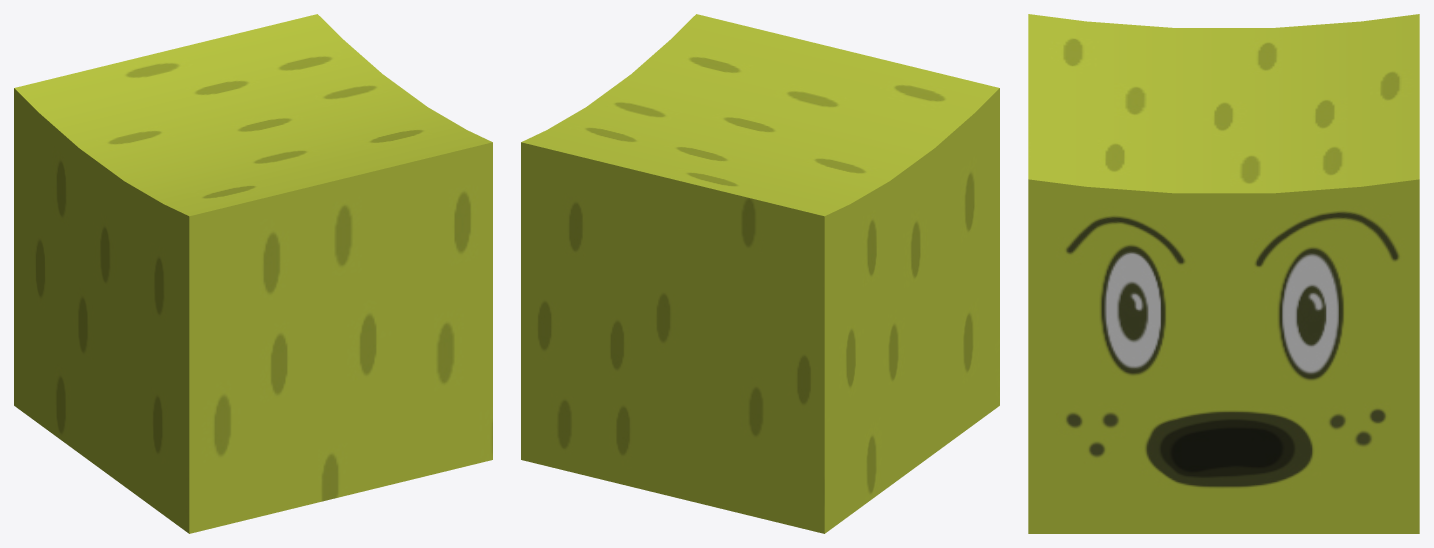
Rendered from lemongreen.fbx.
3 renders of one model, left to right at view 1: azimuth 30°, elevation 25°; view 2: azimuth 150°, elevation 25°; view 3: azimuth 270°, elevation 25°, orthographic. The views are drawn at different scales.
Visible parts, largest first — view 1: Cube; view 2: Cube; view 3: Cube.
Boxes of the visible parts, left/top/right/bottom form: Cube: left=14, top=14, right=492, bottom=533; Cube: left=521, top=14, right=999, bottom=533; Cube: left=1028, top=14, right=1419, bottom=533.
Bounding box in the file's own units: 200 × 200 × 200.
1 material, 1 textured.
